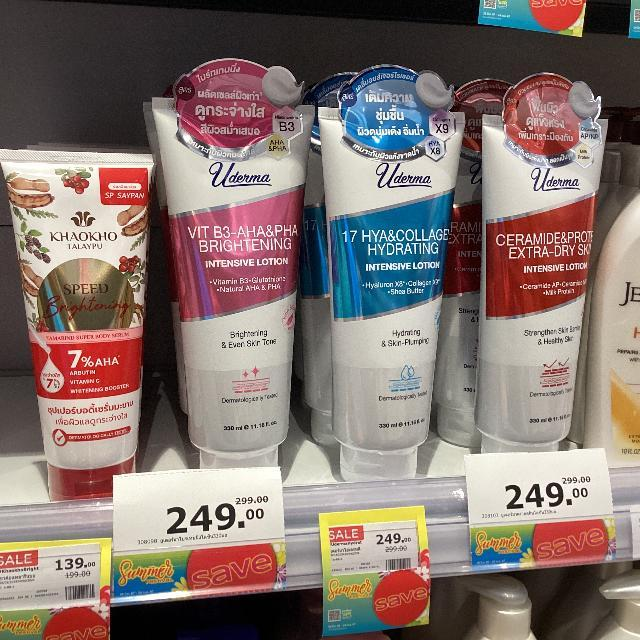Squeeze Tube: (9, 37, 612, 529)
